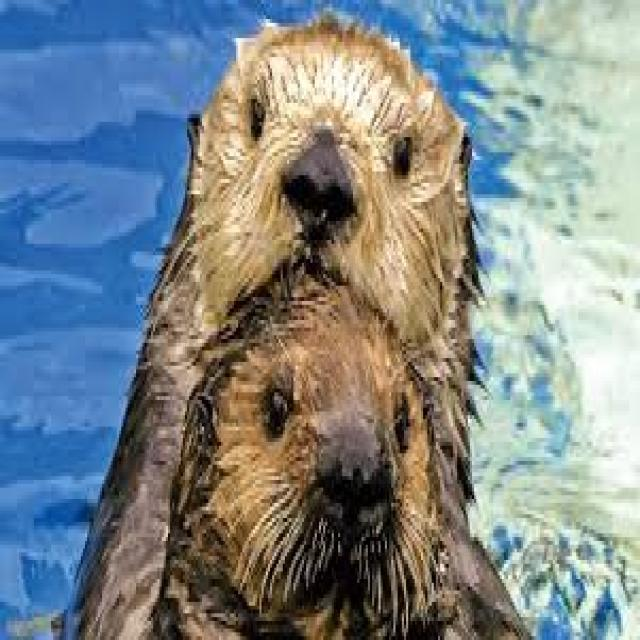Otter: (96, 26, 487, 640), (193, 267, 428, 640)
